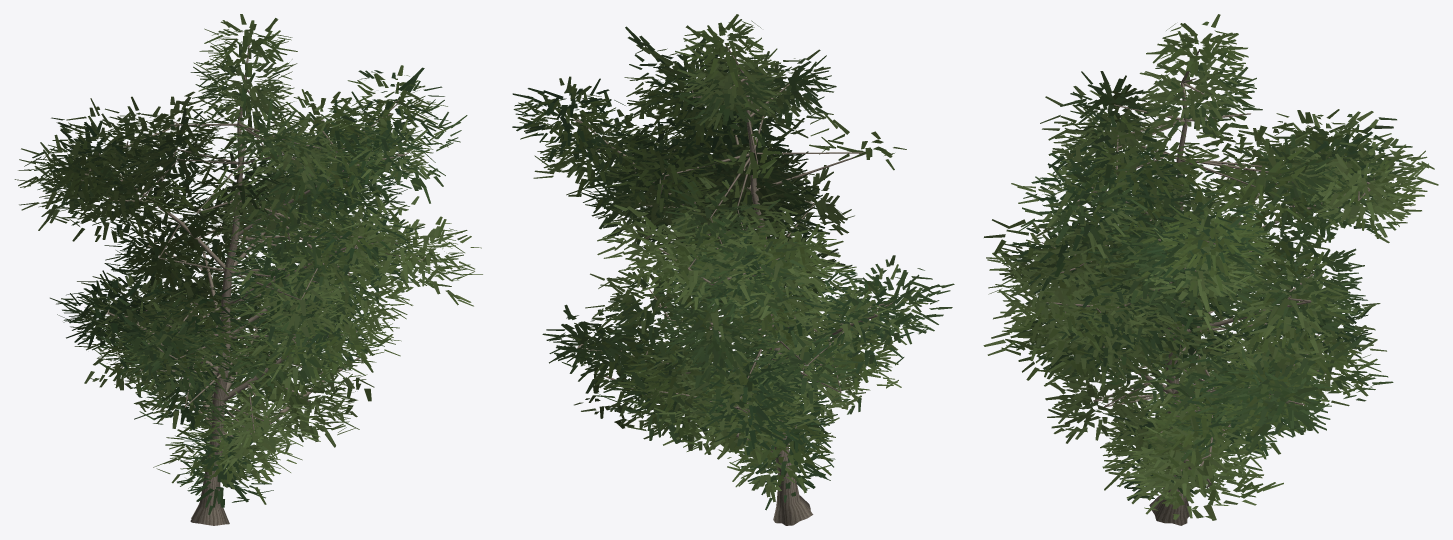
File: cypress.glb
3 renders of one model, left to right at view 1: azimuth 30°, elevation 25°; view 2: azimuth 150°, elevation 25°; view 3: azimuth 270°, elevation 25°, orthographic. The views are drawn at different scales.
Parts seen in each view (by area): view 1: cypress_lod0_1, cypress_lod0_0; view 2: cypress_lod0_1, cypress_lod0_0; view 3: cypress_lod0_1, cypress_lod0_0.
Boxes of the visible parts, x1,y1,x2,y2 form: cypress_lod0_1: (14, 14, 482, 514); cypress_lod0_0: (72, 45, 425, 525); cypress_lod0_1: (512, 14, 954, 510); cypress_lod0_0: (566, 43, 894, 525); cypress_lod0_1: (983, 14, 1438, 520); cypress_lod0_0: (1041, 49, 1374, 525).
Size of what is drawn, in the model's own units: 14.99 by 18.07 by 14.33.
Materials: 2 (1 with a texture image).
